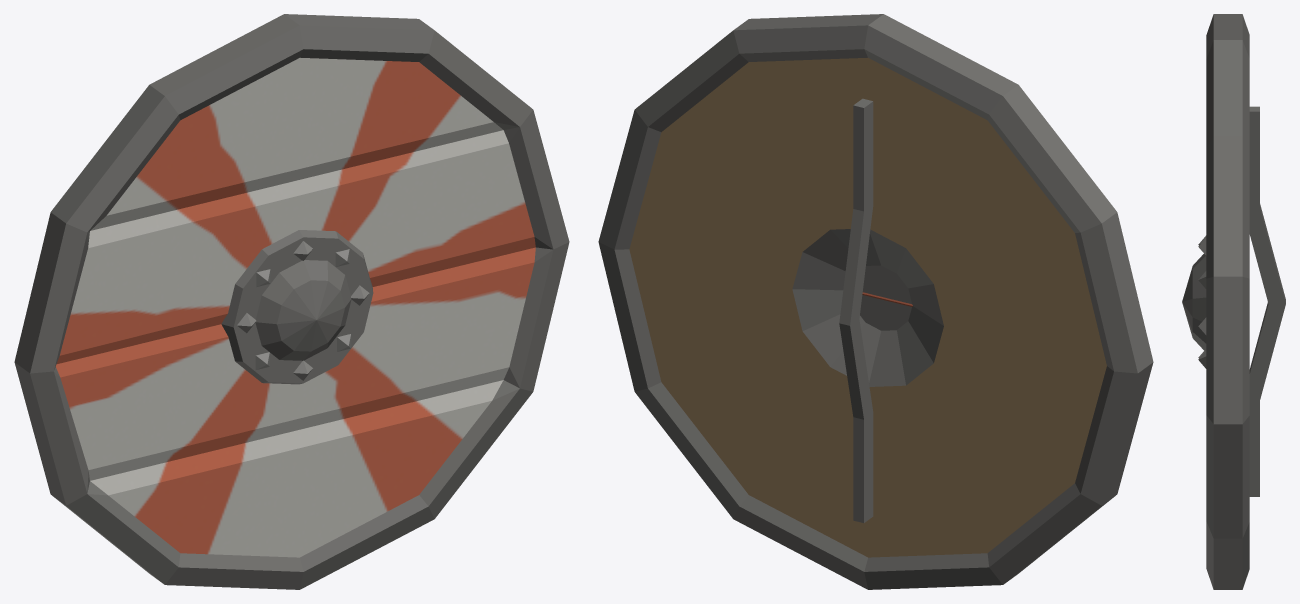
The model's file is SM_pwe_slavic_shield_03e.fbx.
3 renders of one model, left to right at view 1: azimuth 30°, elevation 25°; view 2: azimuth 150°, elevation 25°; view 3: azimuth 270°, elevation 25°, orthographic. The views are drawn at different scales.
Parts seen in each view (by area): view 1: SM_pwe_slavic_shield_03e; view 2: SM_pwe_slavic_shield_03e; view 3: SM_pwe_slavic_shield_03e.
Part boxes in pixels (x1,y1,x2,y2): SM_pwe_slavic_shield_03e: (14,14,569,589); SM_pwe_slavic_shield_03e: (598,14,1153,589); SM_pwe_slavic_shield_03e: (1182,14,1285,589).
Size of the model in its own units: 70.52 by 70.52 by 12.67.
